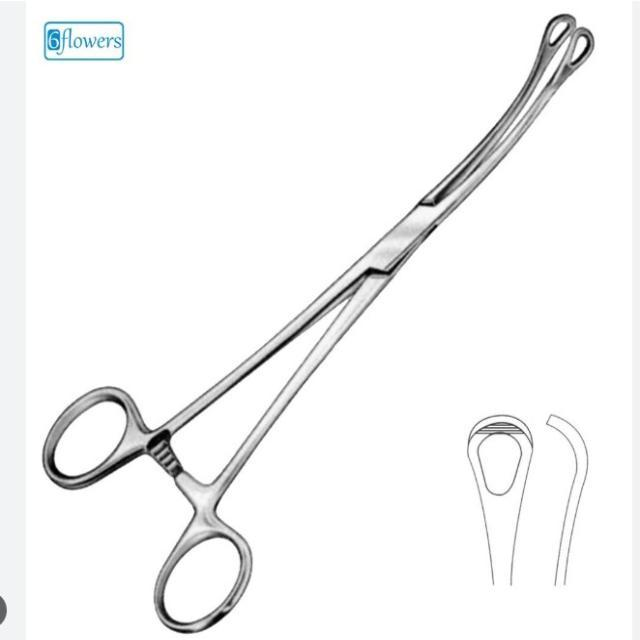Desjardin Forceps: (44, 12, 596, 634)
